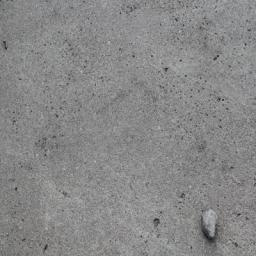FOD: (198, 208, 221, 241)
